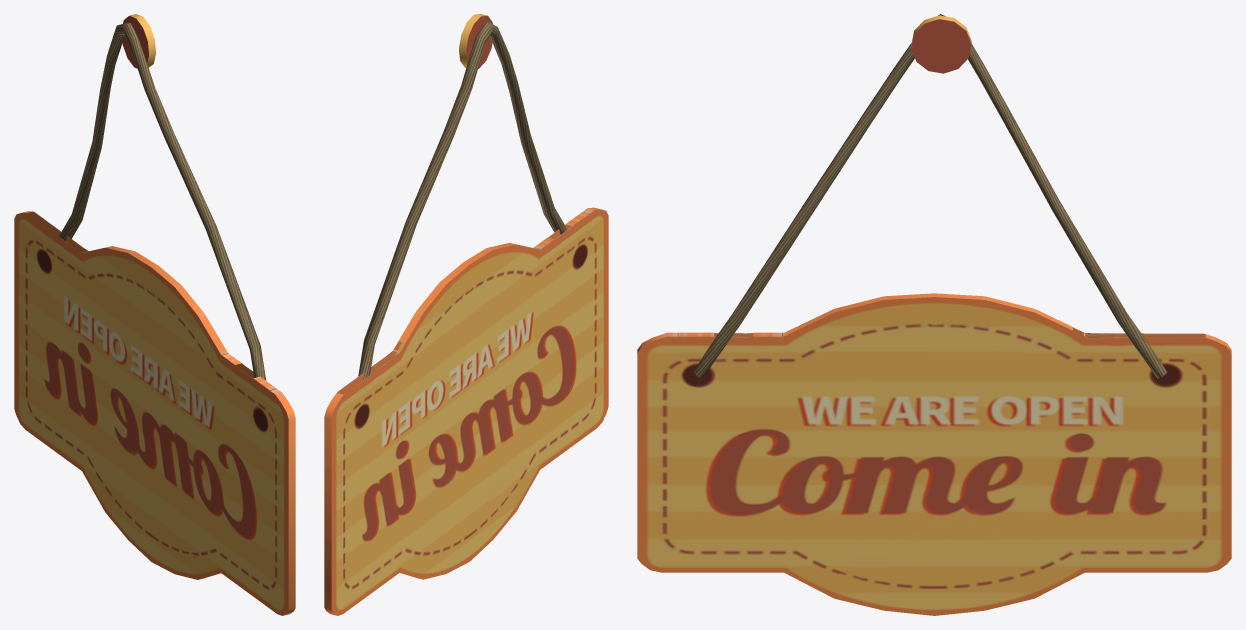
Rendered from Comein.FBX.
3 renders of one model, left to right at view 1: azimuth 30°, elevation 25°; view 2: azimuth 150°, elevation 25°; view 3: azimuth 270°, elevation 25°, orthographic. The views are drawn at different scales.
Visible parts, largest first — view 1: Comein_a, Comein_b; view 2: Comein_a, Comein_b; view 3: Comein_a, Comein_b.
Boxes of the visible parts, <box> form: Comein_a: <box>14,23,295,615</box>; Comein_b: <box>122,14,156,68</box>; Comein_a: <box>324,22,608,615</box>; Comein_b: <box>459,14,492,68</box>; Comein_a: <box>637,14,1231,615</box>; Comein_b: <box>911,15,971,73</box>.
Size of the model in its own units: 2.39 by 28.08 by 25.63.
